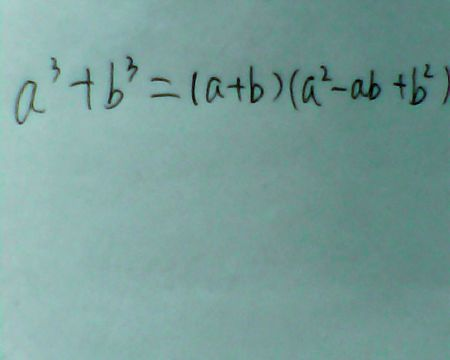cube: (46, 54, 66, 84), (123, 54, 141, 83)
square: (320, 66, 329, 83)
